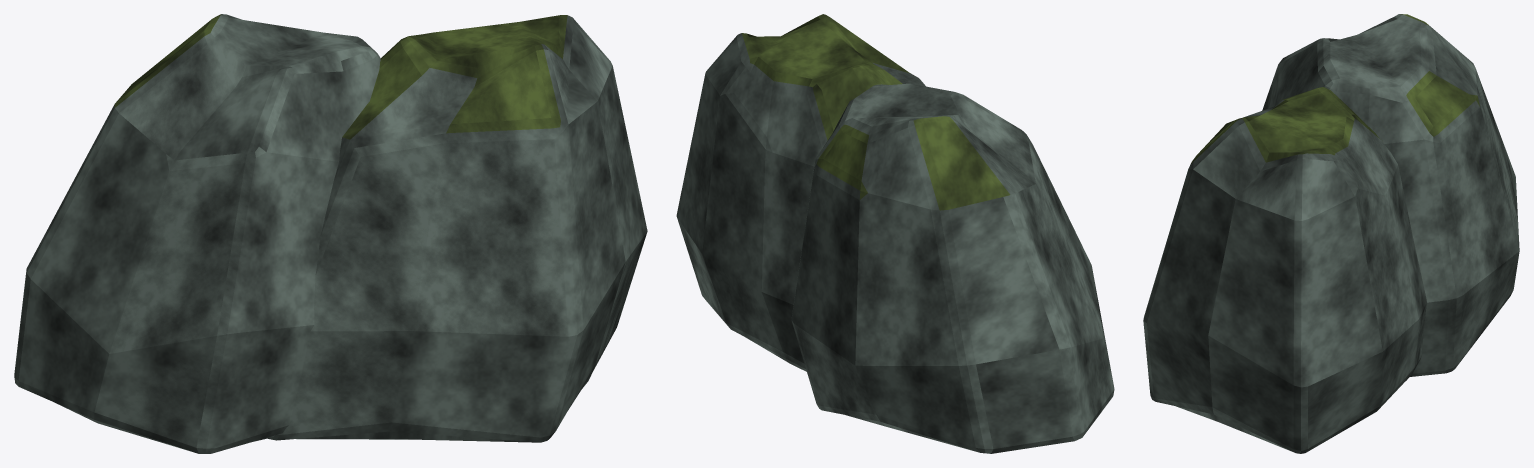
File: rock_0.glb
The picture shows the model from 3 angles, left to right: view 1: azimuth 30°, elevation 25°; view 2: azimuth 150°, elevation 25°; view 3: azimuth 270°, elevation 25°; orthographic projection. The views are drawn at different scales.
Visible parts, largest first — view 1: rock_0Mesh; view 2: rock_0Mesh; view 3: rock_0Mesh.
Boxes of the visible parts, bbox=[...] form: rock_0Mesh: bbox=[14, 14, 647, 453]; rock_0Mesh: bbox=[676, 14, 1114, 453]; rock_0Mesh: bbox=[1143, 14, 1519, 453].
Bounding box in the file's own units: 3.22 × 1.98 × 2.19.
2 materials, 2 textured.
